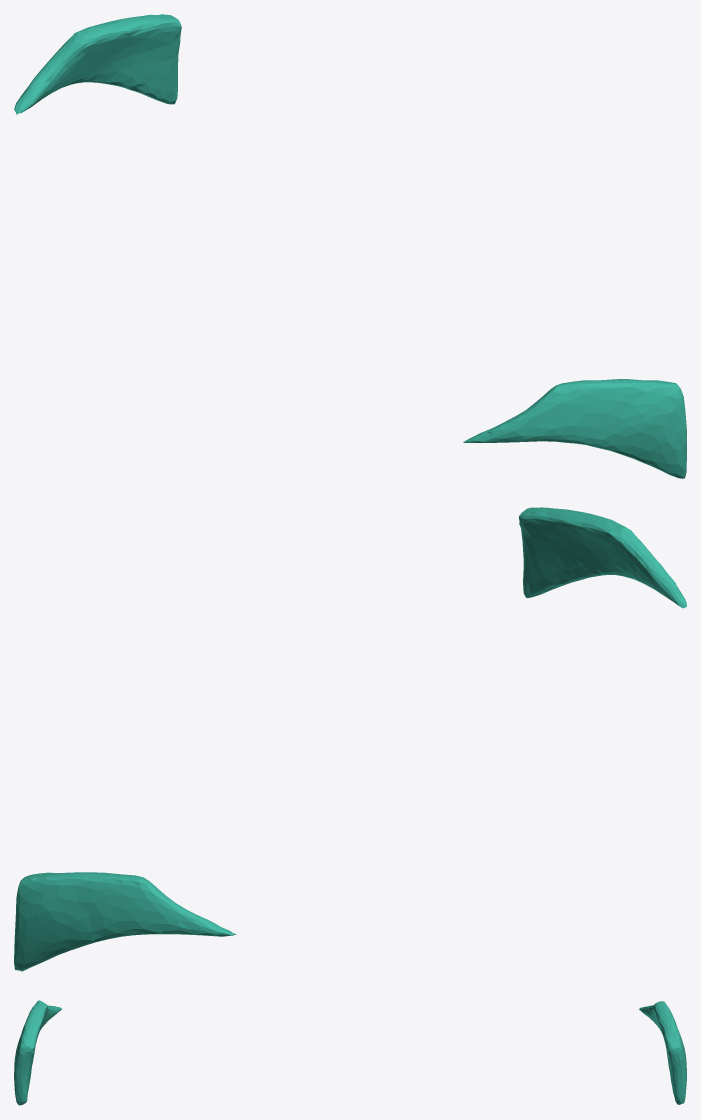
3 views of the same model, one above another, from view 1: azimuth 30°, elevation 25°; view 2: azimuth 150°, elevation 25°; view 3: azimuth 270°, elevation 25° (orthographic). The views are drawn at different scales.
Visible parts, largest first — view 1: 1106.obj; view 2: 1106.obj; view 3: 1106.obj.
Boxes of the visible parts, x1,y1,x2,y2 form: 1106.obj: [14, 14, 686, 478]; 1106.obj: [14, 507, 686, 971]; 1106.obj: [14, 1000, 686, 1105].
Bounding box in the file's own units: 2102 × 1133 × 9861.
